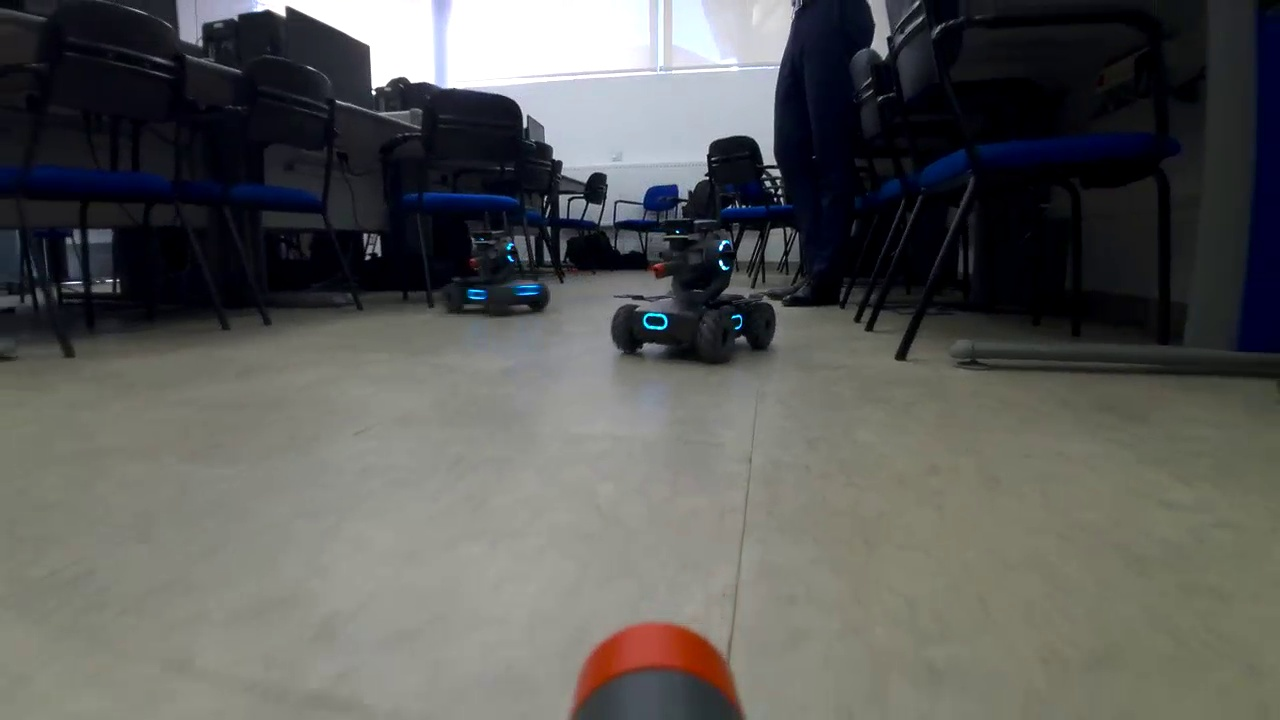robot: (608, 214, 783, 372), (435, 228, 561, 327)
